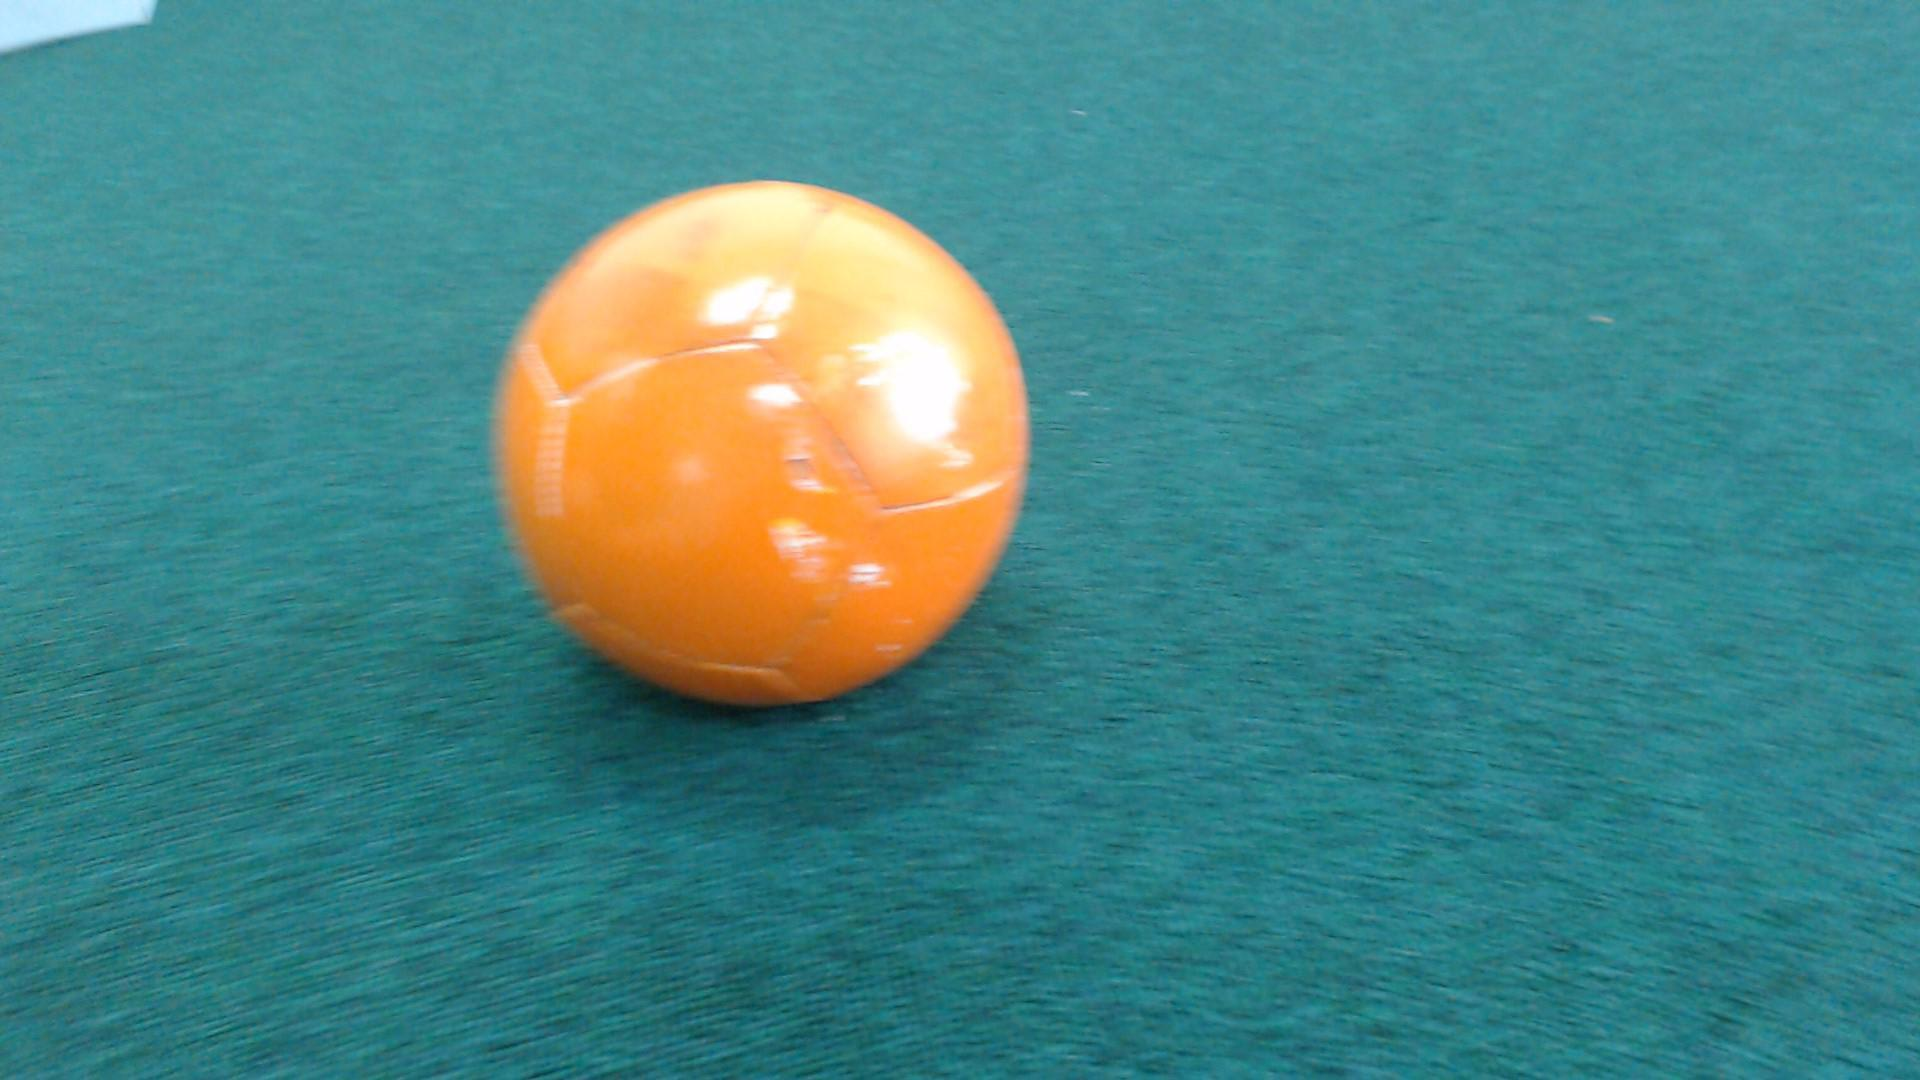bola: (485, 169, 1044, 731)
